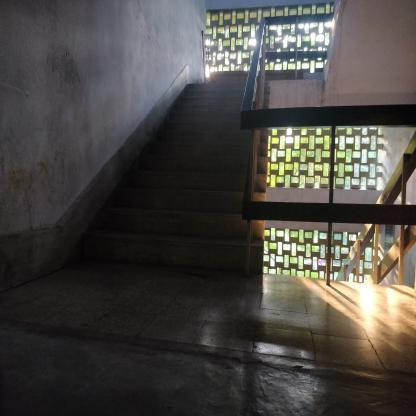stairs: (131, 168, 266, 274)
